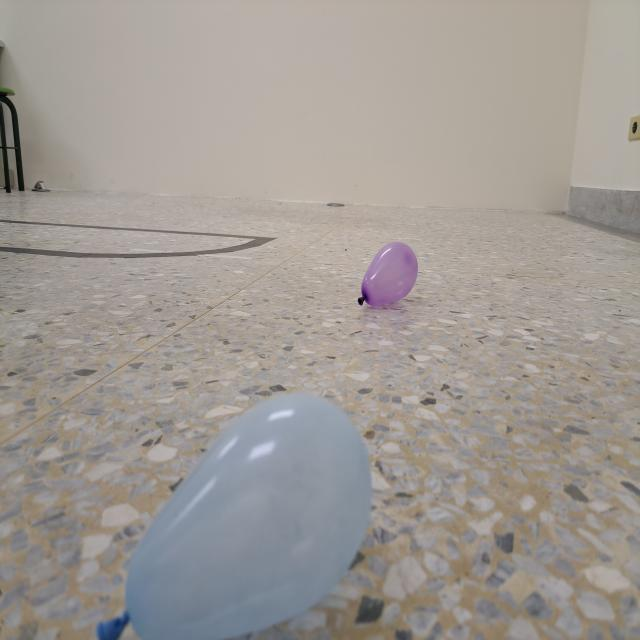other: (95, 390, 373, 640), (357, 240, 419, 310)
